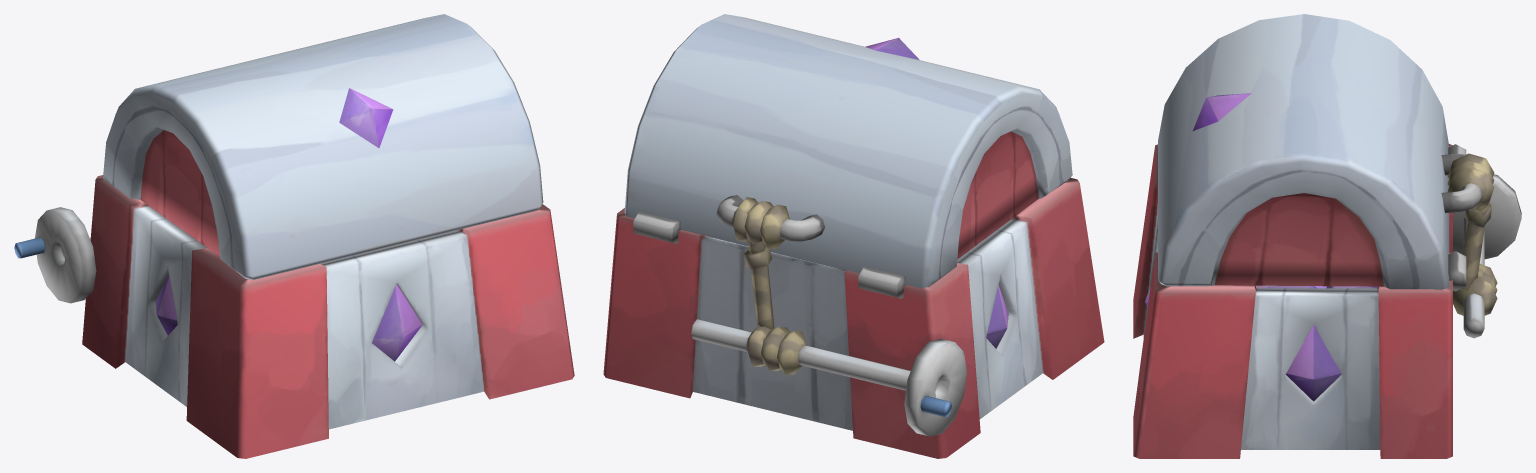
File: SM_GemStorage_lv1.fbx
3 renders of one model, left to right at view 1: azimuth 30°, elevation 25°; view 2: azimuth 150°, elevation 25°; view 3: azimuth 270°, elevation 25°, orthographic. The views are drawn at different scales.
Visible parts, largest first — view 1: SM_Gemstorage_lv1; view 2: SM_Gemstorage_lv1; view 3: SM_Gemstorage_lv1.
Boxes of the visible parts, x1,y1,x2,y2 form: SM_Gemstorage_lv1: [14, 14, 574, 458]; SM_Gemstorage_lv1: [603, 14, 1104, 458]; SM_Gemstorage_lv1: [1133, 14, 1521, 458].
Size of the model in its own units: 296 by 227 by 272.
